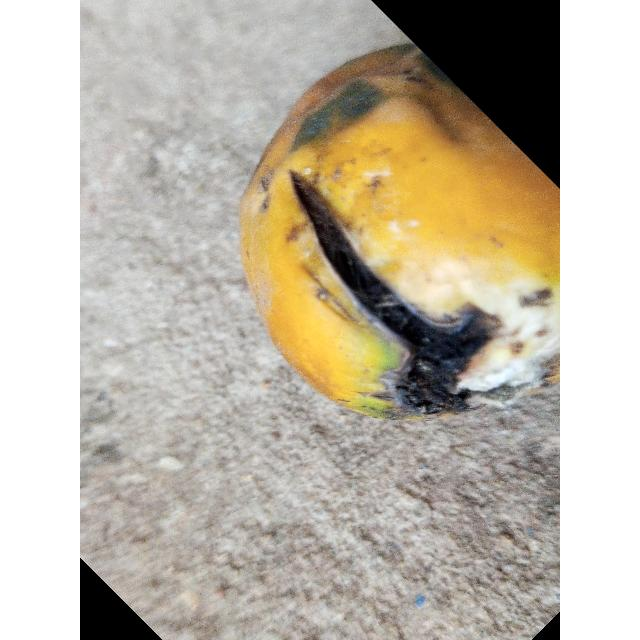damaged: (238, 44, 560, 420)
